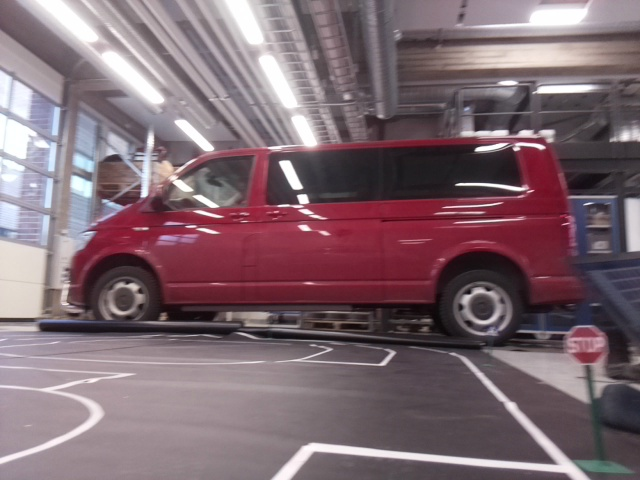Stop: (562, 325, 610, 363)
